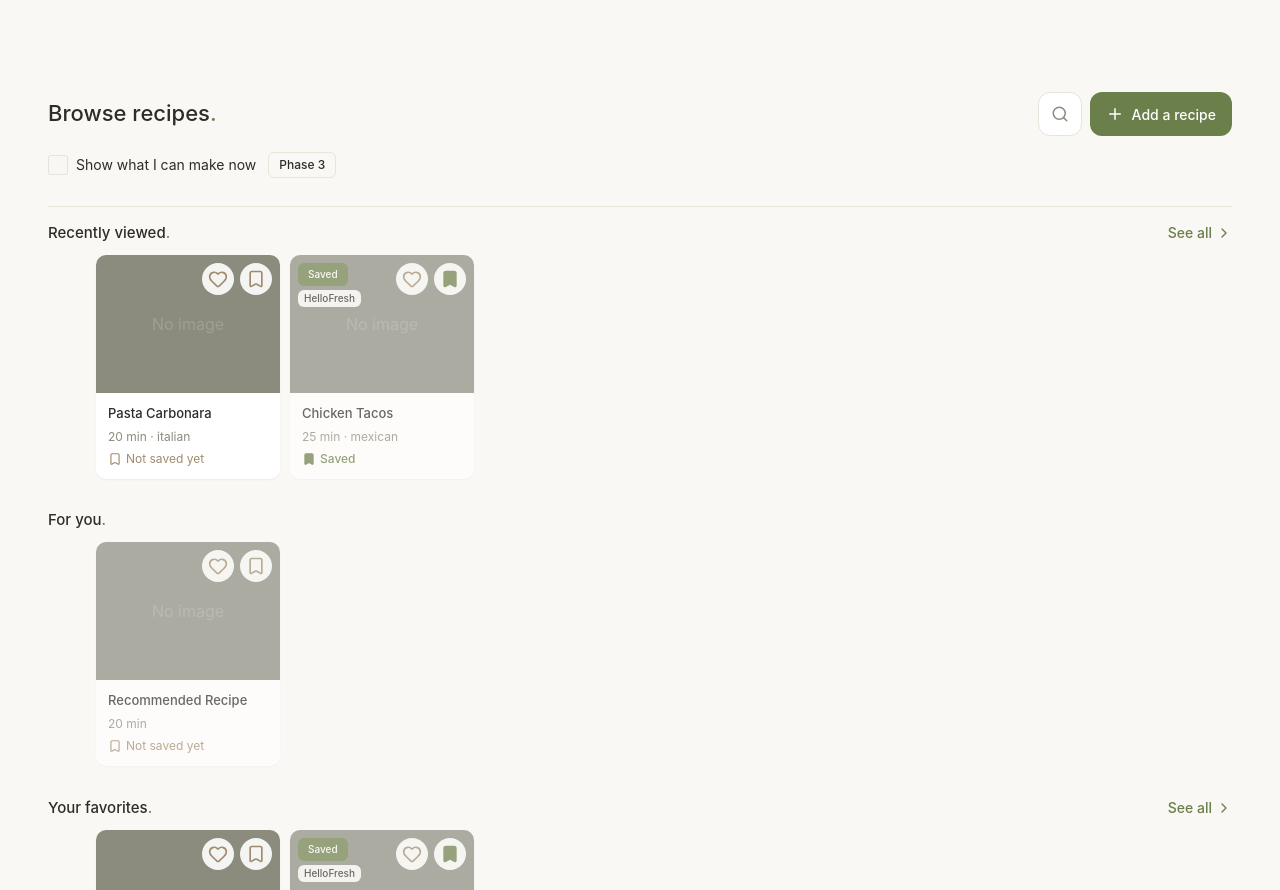
Test: Recipes Page › search functionality › returns to carousel view when search is cleared and no filters active
Click the button named "Search recipes" at (1060, 114), box [1038,92,1082,136]
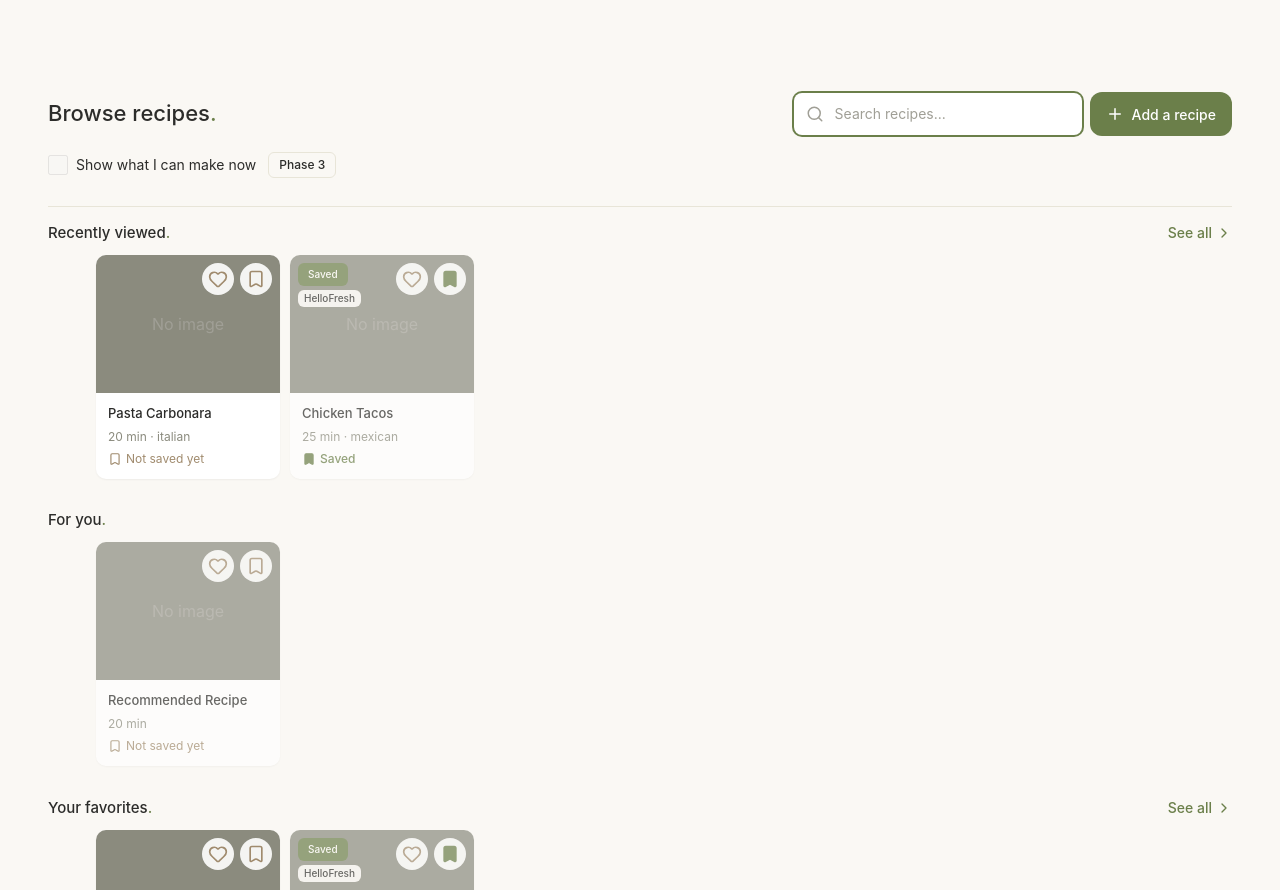
Type "soup" into the field with placeholder "Search recipes..." at (938, 114), box [794,93,1082,135]
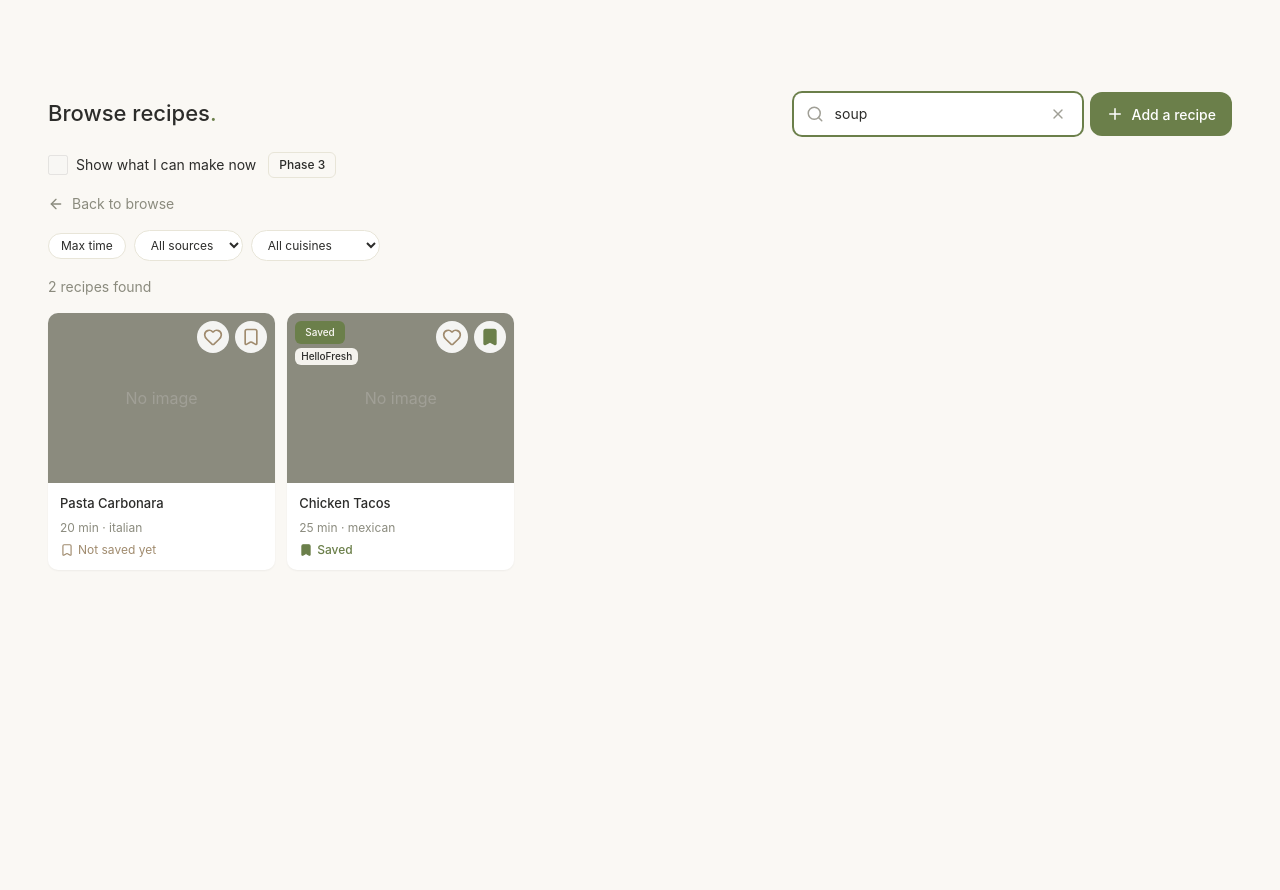
Expected: the button with aria-label "Back to browse view" is shown, [48,194,174,214]
Clear the field with placeholder "Search recipes..." at (938, 114), box [794,93,1082,135]
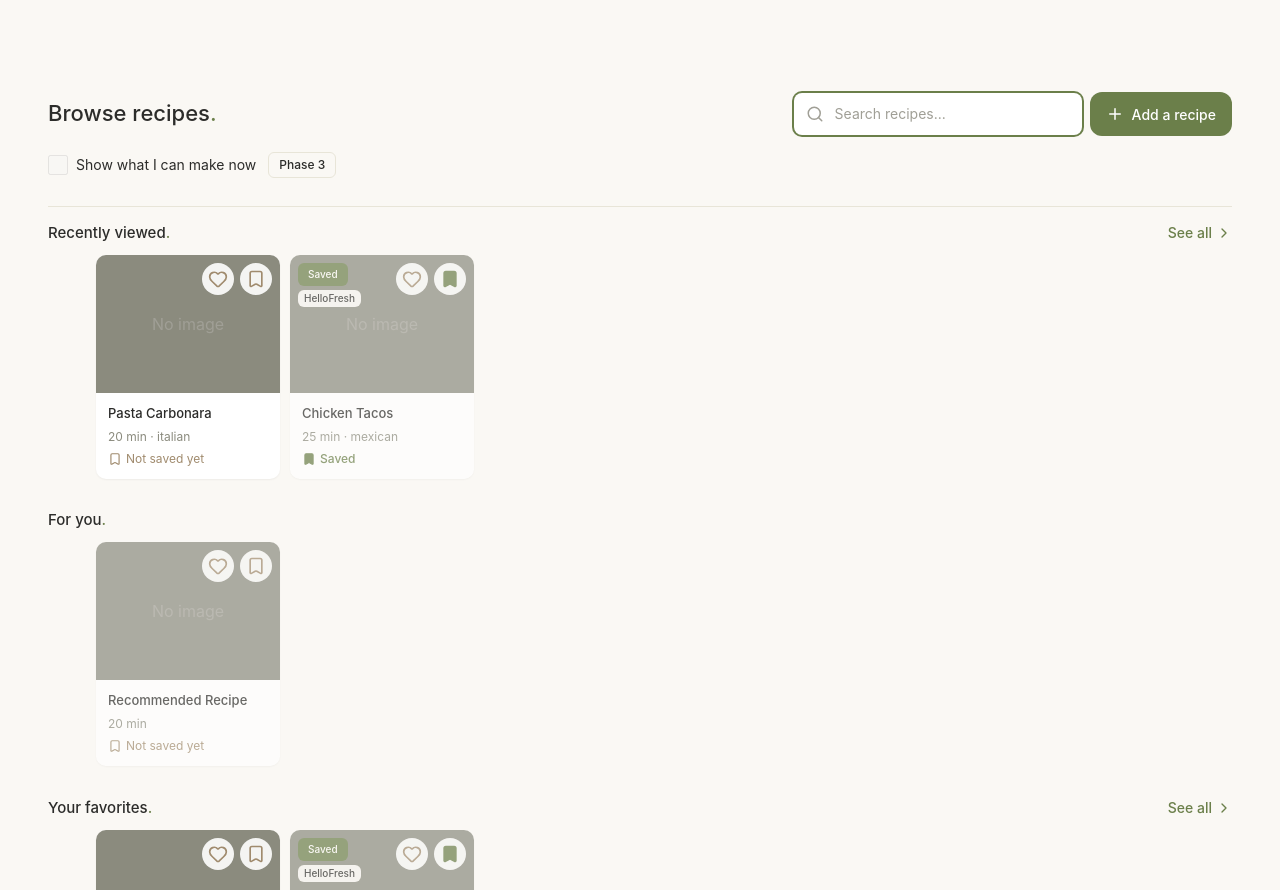
Expected: the heading "Your favorites." is shown, [48,799,152,818]
